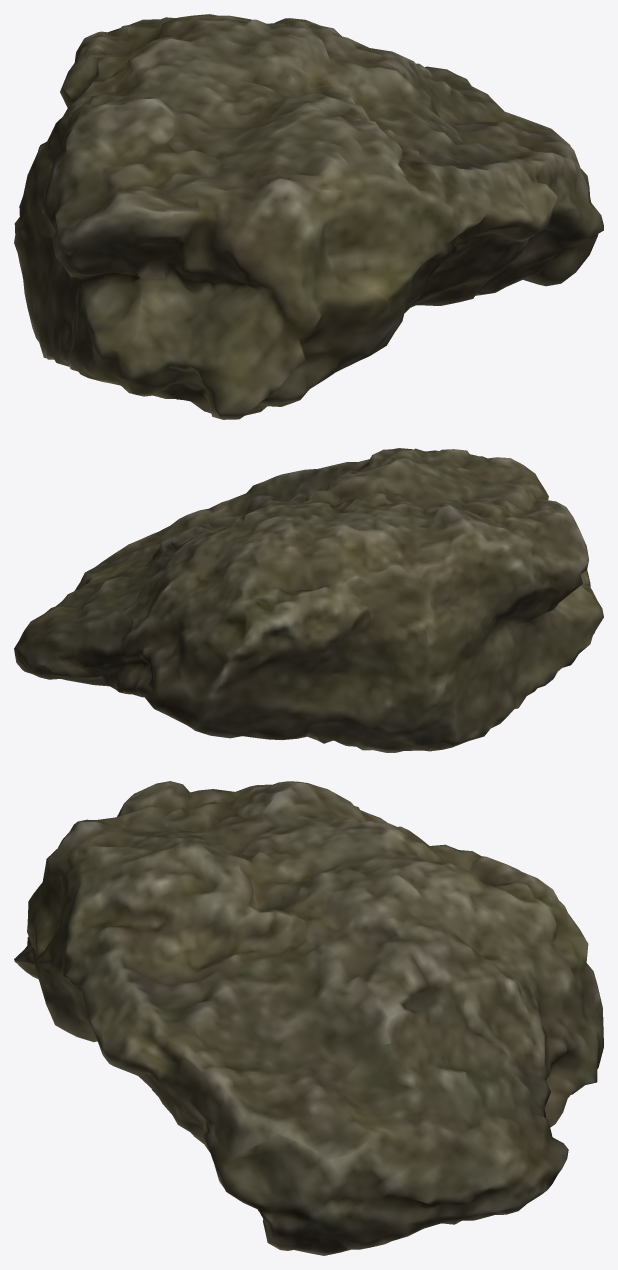
File: rock_moss_set_02_d.gltf
3 renders of one model, top to bottom at view 1: azimuth 30°, elevation 25°; view 2: azimuth 150°, elevation 25°; view 3: azimuth 270°, elevation 25°, orthographic. The views are drawn at different scales.
Visible parts, largest first — view 1: rock_moss_set_02_rock12; view 2: rock_moss_set_02_rock12; view 3: rock_moss_set_02_rock12.
Boxes of the visible parts, x1,y1,x2,y2 form: rock_moss_set_02_rock12: [14, 14, 603, 419]; rock_moss_set_02_rock12: [14, 448, 603, 752]; rock_moss_set_02_rock12: [14, 781, 603, 1255].
Bounding box in the file's own units: 1.58 × 0.736 × 1.44.
Materials: 1 (1 with a texture image).
